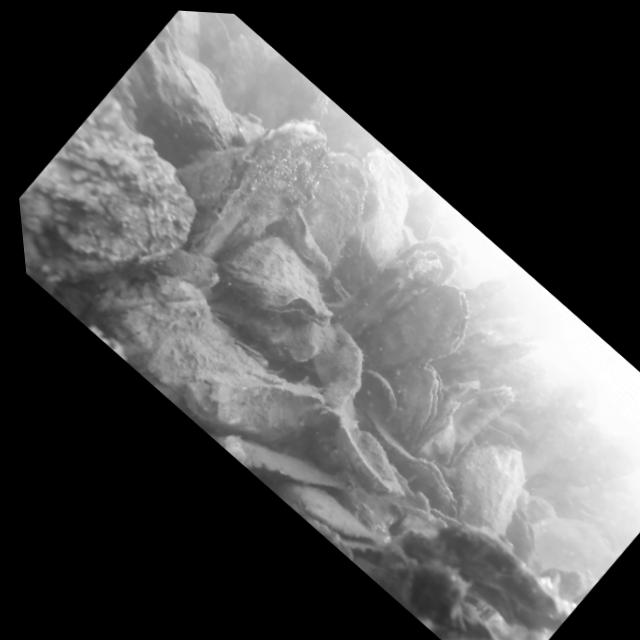Oyster-Closed: (159, 88, 364, 294), (170, 320, 334, 479), (338, 254, 498, 412), (111, 20, 265, 168), (78, 243, 227, 389), (423, 418, 559, 552), (344, 403, 476, 525), (419, 361, 525, 468), (316, 410, 420, 506), (403, 391, 490, 478), (269, 202, 350, 280)
Oyster-Indeterminate: (8, 86, 237, 347), (389, 484, 581, 640), (266, 138, 403, 273), (338, 217, 469, 348), (336, 362, 411, 435)
Oyster-Open: (202, 213, 355, 359), (309, 138, 449, 274), (356, 349, 466, 457), (273, 465, 386, 570), (490, 502, 554, 565)
